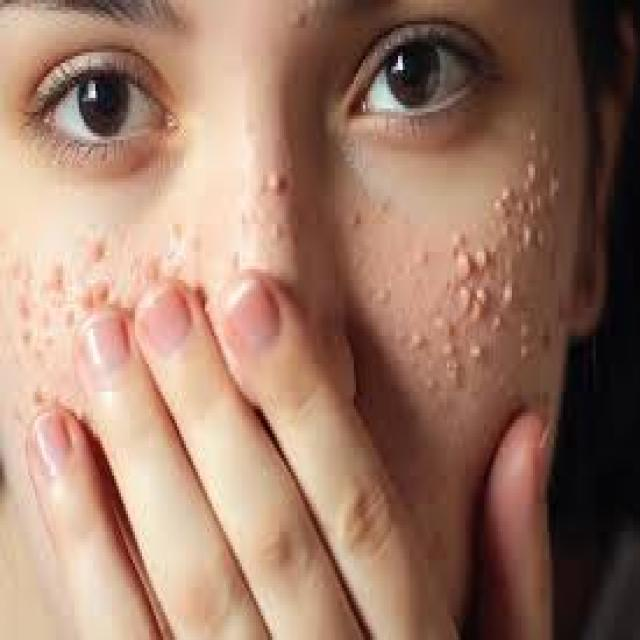Acne: (402, 117, 568, 407), (12, 255, 201, 335), (255, 161, 299, 269)
